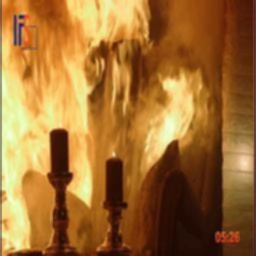fire: (3, 0, 176, 218)
